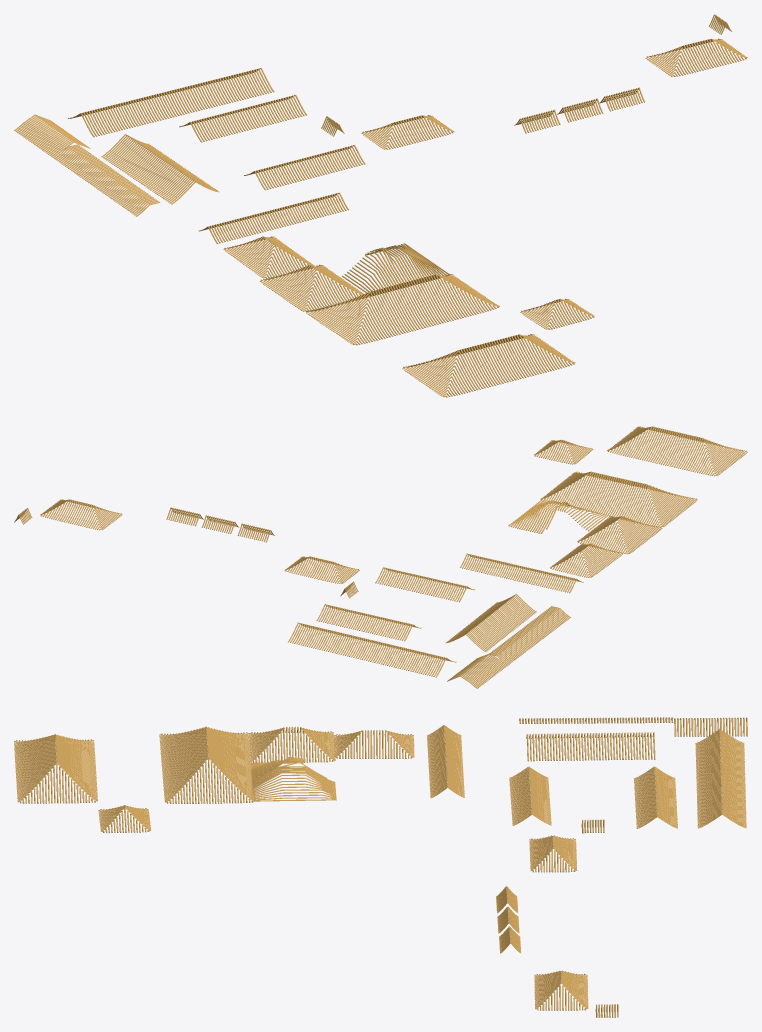
The model's file is roof-tiles-6-3.glb.
The picture shows the model from 3 angles, top to bottom: view 1: azimuth 30°, elevation 25°; view 2: azimuth 150°, elevation 25°; view 3: azimuth 270°, elevation 25°; orthographic projection. The views are drawn at different scales.
Parts seen in each view (by area): view 1: roof-tiles-6-3_micro_Roof_Glazed_Ochre; view 2: roof-tiles-6-3_micro_Roof_Glazed_Ochre; view 3: roof-tiles-6-3_micro_Roof_Glazed_Ochre.
Boxes of the visible parts, x1,y1,x2,y2 form: roof-tiles-6-3_micro_Roof_Glazed_Ochre: (14, 14, 747, 397); roof-tiles-6-3_micro_Roof_Glazed_Ochre: (14, 426, 747, 688); roof-tiles-6-3_micro_Roof_Glazed_Ochre: (14, 717, 747, 1017).
Bounding box in the file's own units: 0.9839 × 0.0407 × 1.02.
